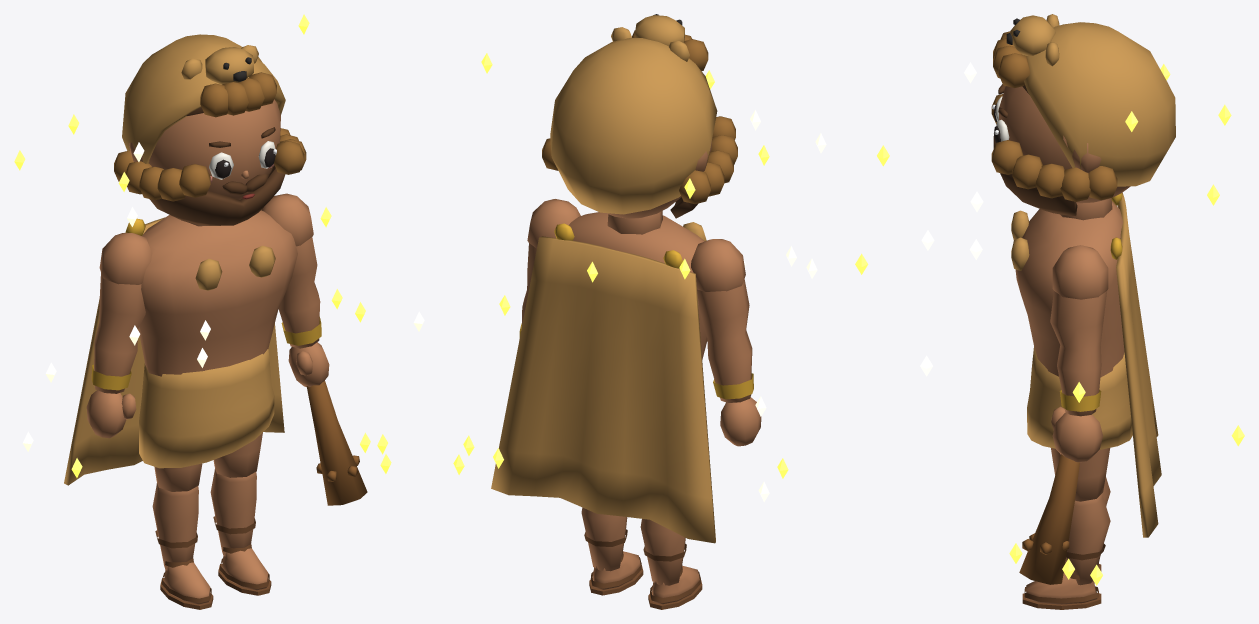
The model's file is herakles.glb.
3 views of the same model, side by side, from view 1: azimuth 30°, elevation 25°; view 2: azimuth 150°, elevation 25°; view 3: azimuth 270°, elevation 25° (orthographic). The views are drawn at different scales.
Visible parts, largest first — view 1: rumpf, kopfschmuck, huefte, armL, umhang, kopf, armR, knieR, knieL, itemR, bart, beinR (+4 smaller); view 2: umhang, kopfschmuck, armL, rumpf, knieL, knieR, armR, kopf, vfx_funken_1, vfx_funken_0, vfx_funken_2; view 3: kopfschmuck, armR, rumpf, umhang, knieR, huefte, kopf, itemR, beinR, bart, vfx_funken_1, vfx_funken_0 (+1 smaller).
Part boxes in pixels (left/top/right/bottom): rumpf: left=138, top=210, right=297, bottom=376; kopfschmuck: left=114, top=34, right=306, bottom=201; huefte: left=139, top=349, right=274, bottom=468; armL: left=86, top=233, right=152, bottom=438; umhang: left=64, top=217, right=284, bottom=485; kopf: left=129, top=99, right=280, bottom=226; armR: left=261, top=193, right=329, bottom=386; knieR: left=210, top=468, right=271, bottom=595; knieL: left=152, top=483, right=213, bottom=609; itemR: left=306, top=380, right=367, bottom=505; bart: left=149, top=165, right=285, bottom=225; beinR: left=213, top=432, right=262, bottom=477; umhang: left=491, top=222, right=715, bottom=543; kopfschmuck: left=542, top=14, right=737, bottom=214; armL: left=691, top=239, right=761, bottom=446; rumpf: left=569, top=212, right=707, bottom=359; knieL: left=640, top=519, right=702, bottom=609; knieR: left=581, top=507, right=643, bottom=595; armR: left=519, top=199, right=580, bottom=337; kopf: left=606, top=141, right=711, bottom=234; vfx_funken_1: left=453, top=70, right=796, bottom=474; vfx_funken_0: left=463, top=133, right=826, bottom=478; vfx_funken_2: left=481, top=53, right=769, bottom=502; kopfschmuck: left=991, top=14, right=1175, bottom=201; armR: left=1050, top=245, right=1108, bottom=462; rumpf: left=1015, top=201, right=1124, bottom=377; umhang: left=1011, top=192, right=1161, bottom=537; knieR: left=1022, top=493, right=1110, bottom=609; huefte: left=1027, top=347, right=1132, bottom=449; kopf: left=999, top=86, right=1130, bottom=220; itemR: left=1019, top=454, right=1079, bottom=584; beinR: left=1051, top=448, right=1110, bottom=501; bart: left=993, top=136, right=1077, bottom=215; vfx_funken_1: left=877, top=104, right=1244, bottom=585; vfx_funken_0: left=855, top=62, right=1219, bottom=579.
Bounding box in the file's own units: 1.49 × 2.35 × 1.46.
